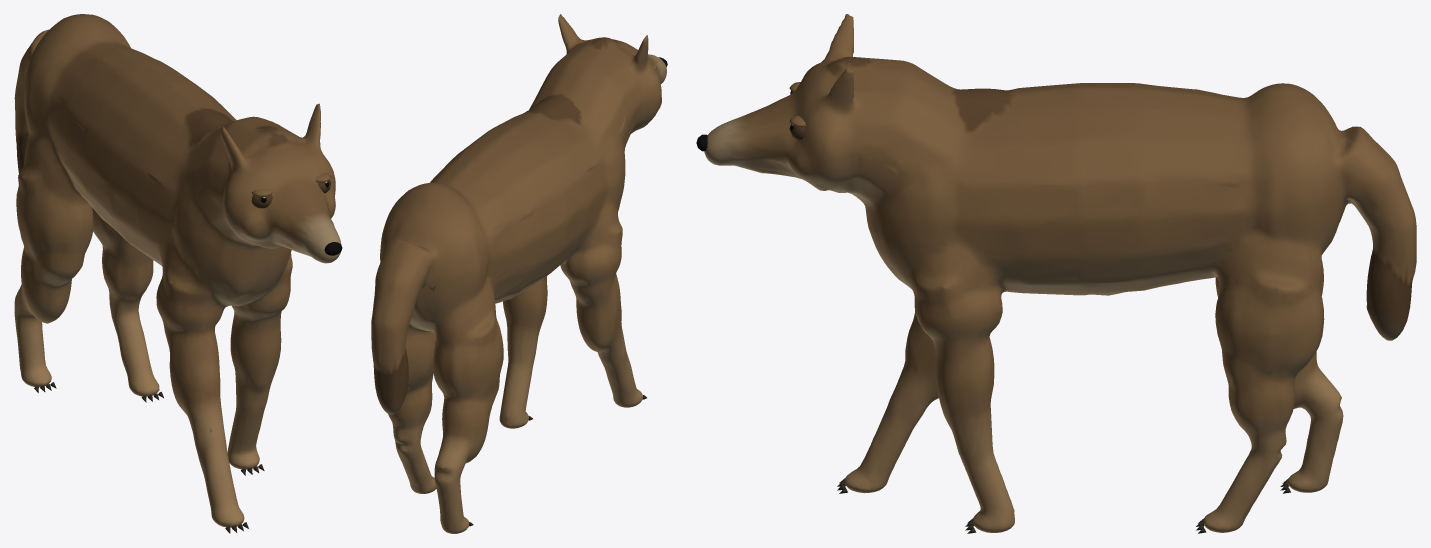
The model's file is AenocyonDirus.fbx.
3 views of the same model, side by side, from view 1: azimuth 30°, elevation 25°; view 2: azimuth 150°, elevation 25°; view 3: azimuth 270°, elevation 25° (orthographic). The views are drawn at different scales.
Parts seen in each view (by area): view 1: AenocyonDirus; view 2: AenocyonDirus; view 3: AenocyonDirus.
Boxes of the visible parts, left/top/right/bottom form: AenocyonDirus: left=14, top=14, right=342, bottom=533; AenocyonDirus: left=371, top=14, right=667, bottom=533; AenocyonDirus: left=696, top=14, right=1416, bottom=533.
Bounding box in the file's own units: 0.3388 × 1.02 × 1.42.
